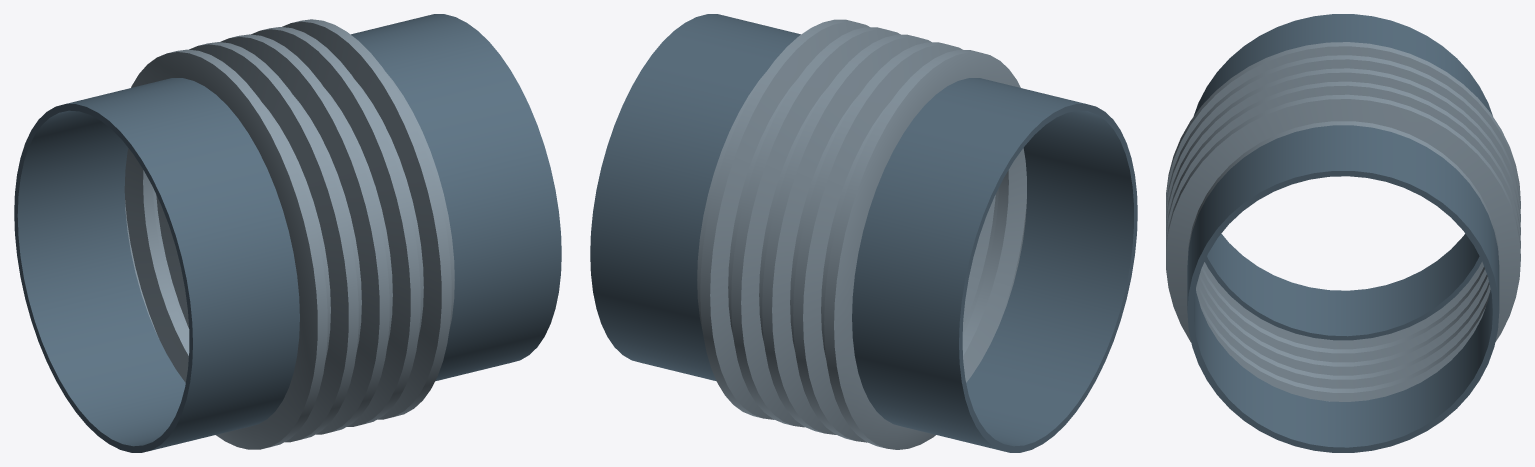
Rendered from silf-dn600-L750-D630.glb.
The picture shows the model from 3 angles, left to right: view 1: azimuth 30°, elevation 25°; view 2: azimuth 150°, elevation 25°; view 3: azimuth 270°, elevation 25°; orthographic projection. The views are drawn at different scales.
Parts seen in each view (by area): view 1: patrubok_1, prokladka_silfon_1, patrubok_2; view 2: patrubok_1, prokladka_silfon_1, patrubok_2; view 3: prokladka_silfon_1, patrubok_2, patrubok_1.
Boxes of the visible parts, left/top/right/bottom form: patrubok_1: left=14, top=78, right=299, bottom=452; prokladka_silfon_1: left=124, top=19, right=454, bottom=449; patrubok_2: left=351, top=14, right=561, bottom=381; patrubok_1: left=852, top=78, right=1137, bottom=452; prokladka_silfon_1: left=697, top=19, right=1026, bottom=449; patrubok_2: left=590, top=14, right=800, bottom=381; prokladka_silfon_1: left=1166, top=42, right=1520, bottom=401; patrubok_2: left=1187, top=125, right=1499, bottom=452; patrubok_1: left=1193, top=14, right=1492, bottom=340.
Size of the model in its own units: 750 by 717 by 717.
